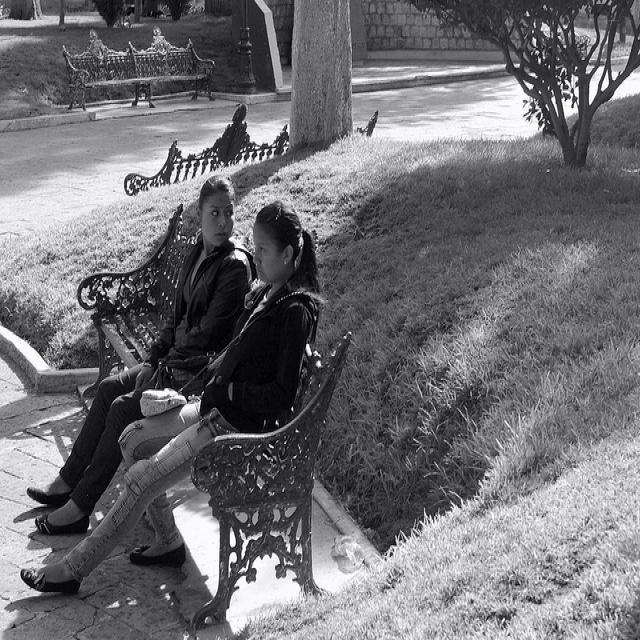non-dog: (18, 200, 324, 598), (22, 172, 256, 539)
